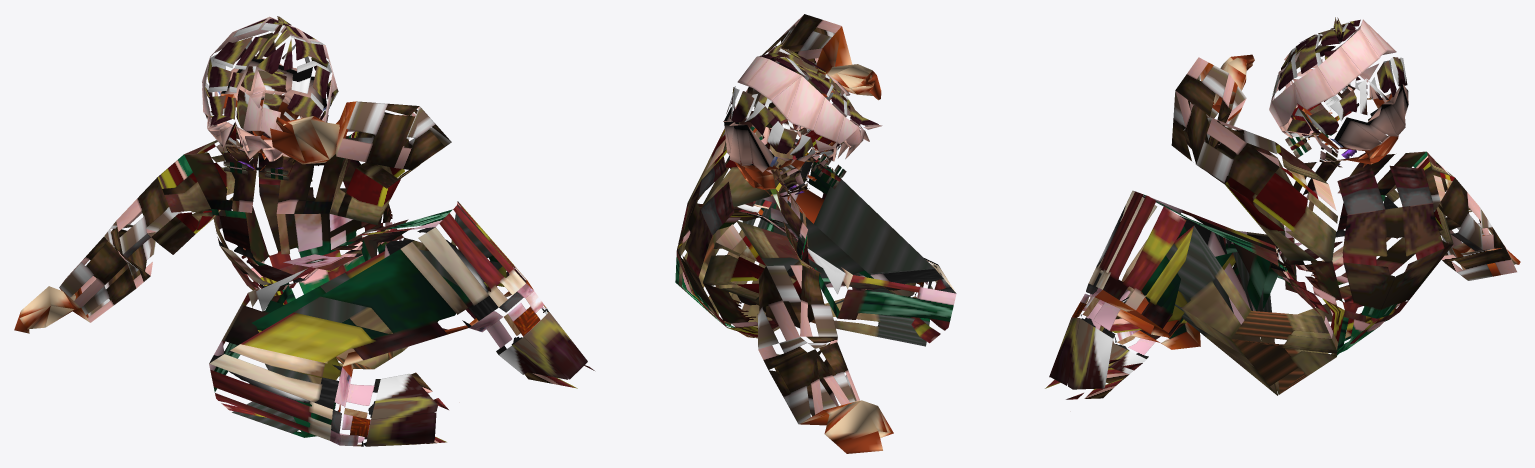
The picture shows the model from 3 angles, left to right: view 1: azimuth 30°, elevation 25°; view 2: azimuth 150°, elevation 25°; view 3: azimuth 270°, elevation 25°; orthographic projection. The views are drawn at different scales.
Parts seen in each view (by area): view 1: T1L9M001_6; view 2: T1L9M001_6; view 3: T1L9M001_6.
Boxes of the visible parts, x1=… form: T1L9M001_6: x1=14, y1=16, x2=594, y2=446; T1L9M001_6: x1=675, y1=14, x2=956, y2=453; T1L9M001_6: x1=1045, y1=17, x2=1520, y2=399.
Bounding box in the file's own units: 0.8438 × 0.7338 × 1.01.
